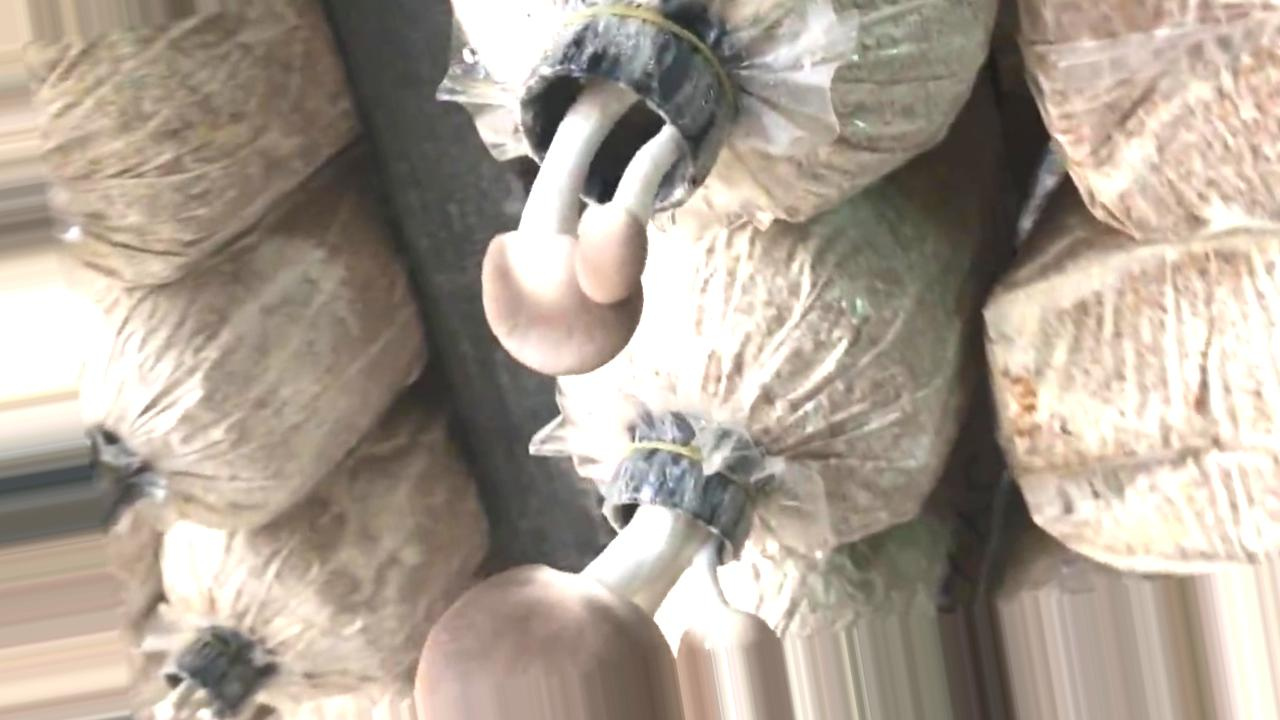nam: (411, 431, 788, 720), (482, 5, 730, 372)
